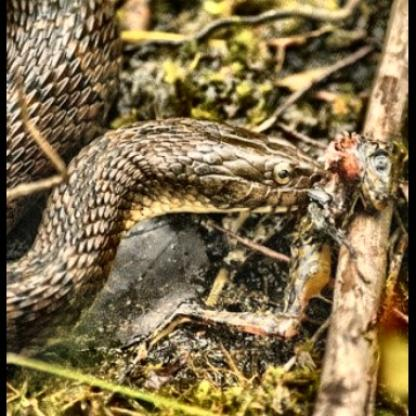Snake: (0, 0, 344, 328)
